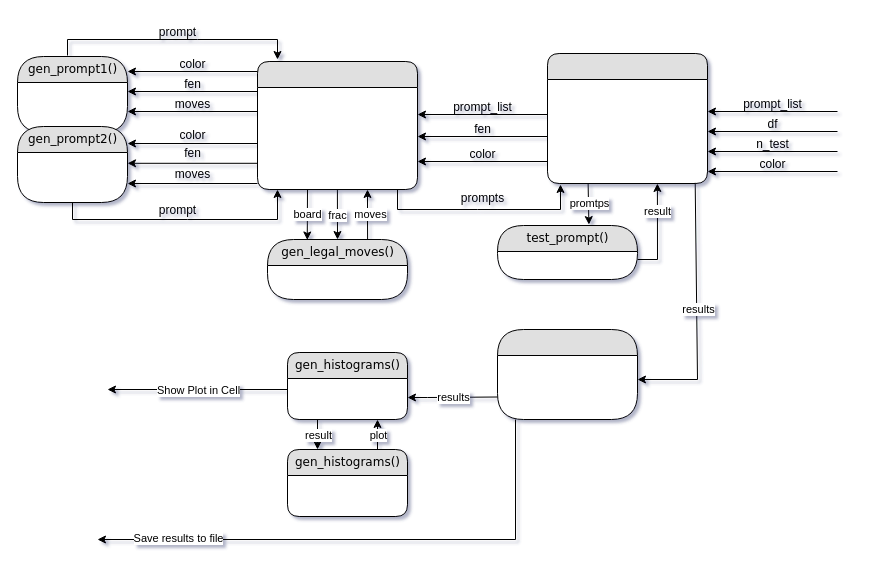
Image size: 869x571. Some labels were removed from this diagram. Here are the shapes that lost their labels. From the top down, the centre of each, then its label:
At [337,125]: "gen_prompts".
At [627,118]: "init_prompt_test()".
At [567,374]: "output_handler()".
